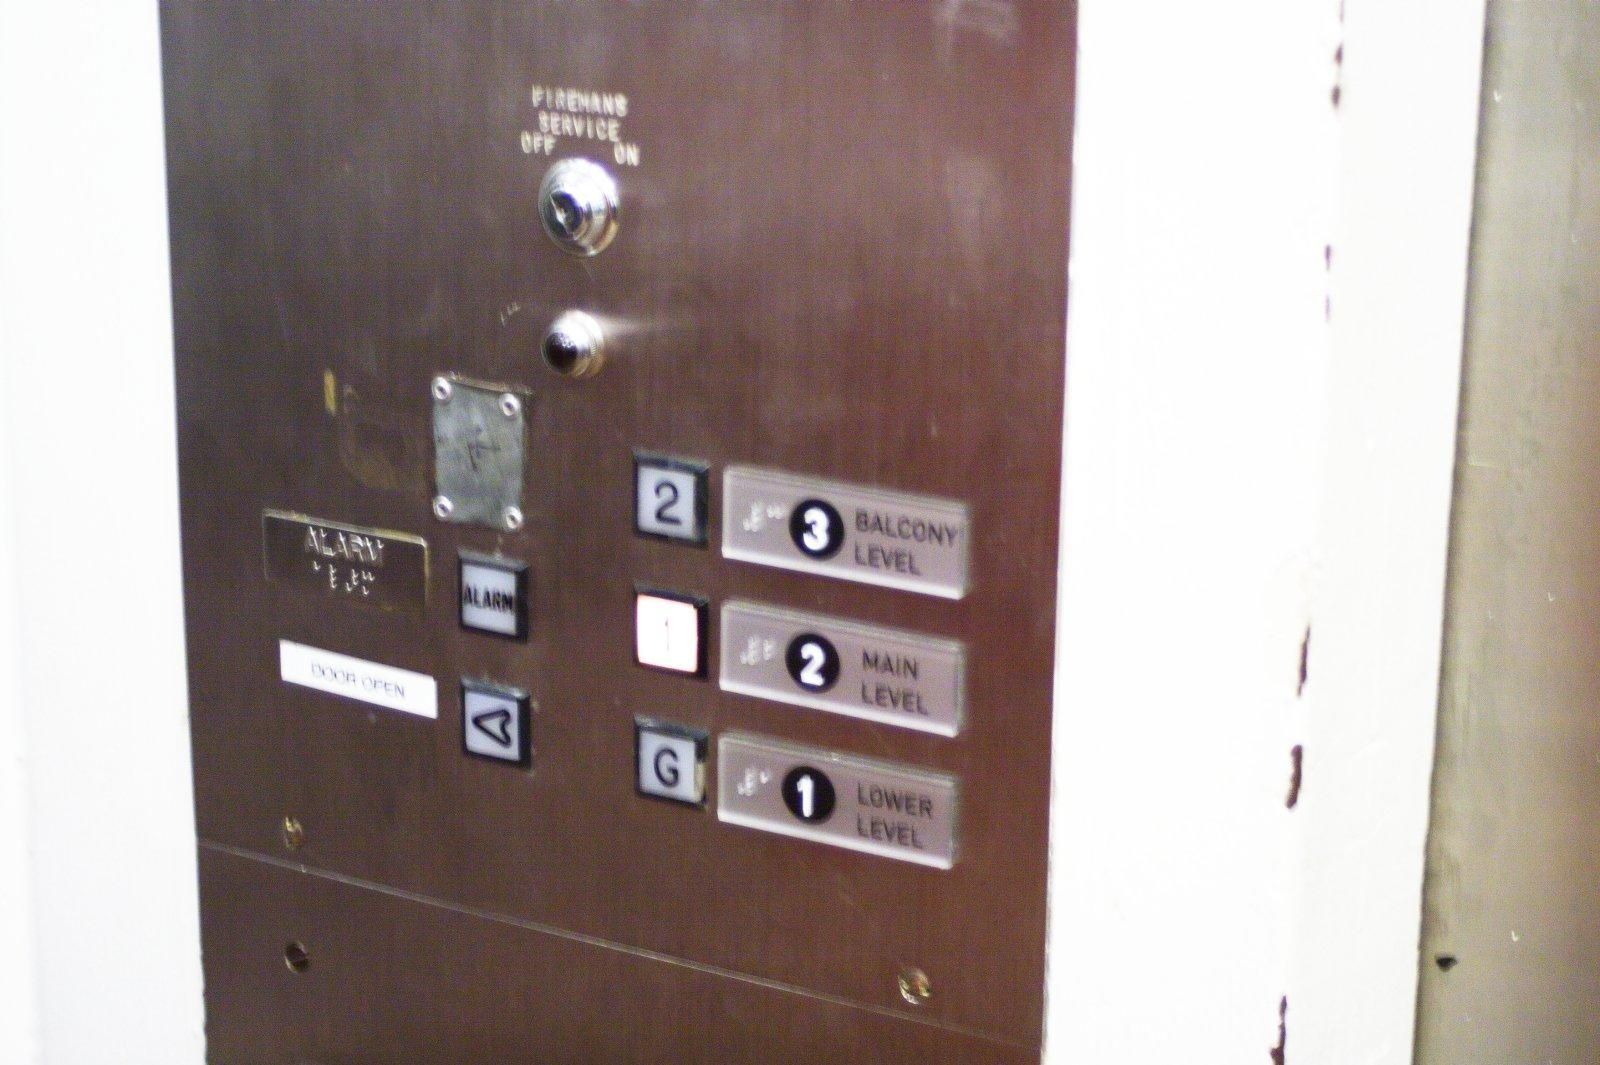1: (708, 716, 965, 890), (631, 576, 711, 693)
2: (719, 590, 970, 760), (619, 436, 716, 562)
3: (719, 465, 978, 598)
G: (626, 706, 716, 826)
indicator: (531, 149, 629, 265), (538, 300, 616, 393)
text: (256, 498, 434, 636), (449, 552, 542, 653)
unknown: (452, 667, 536, 774)
